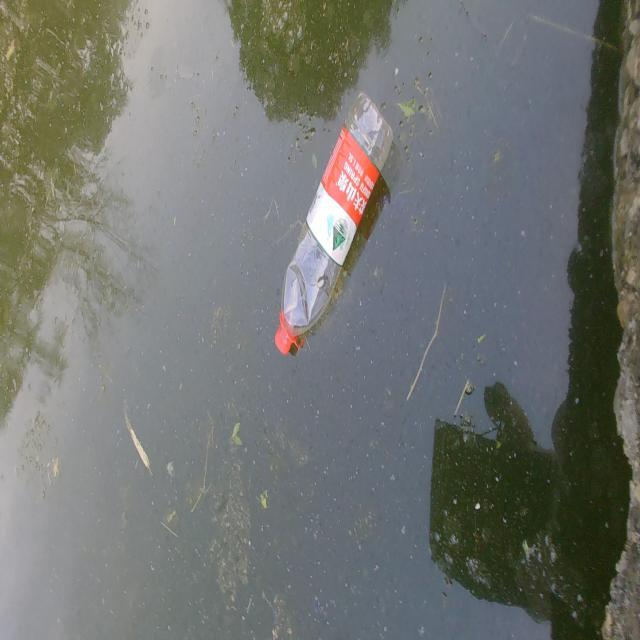garbage: (274, 90, 394, 356)
